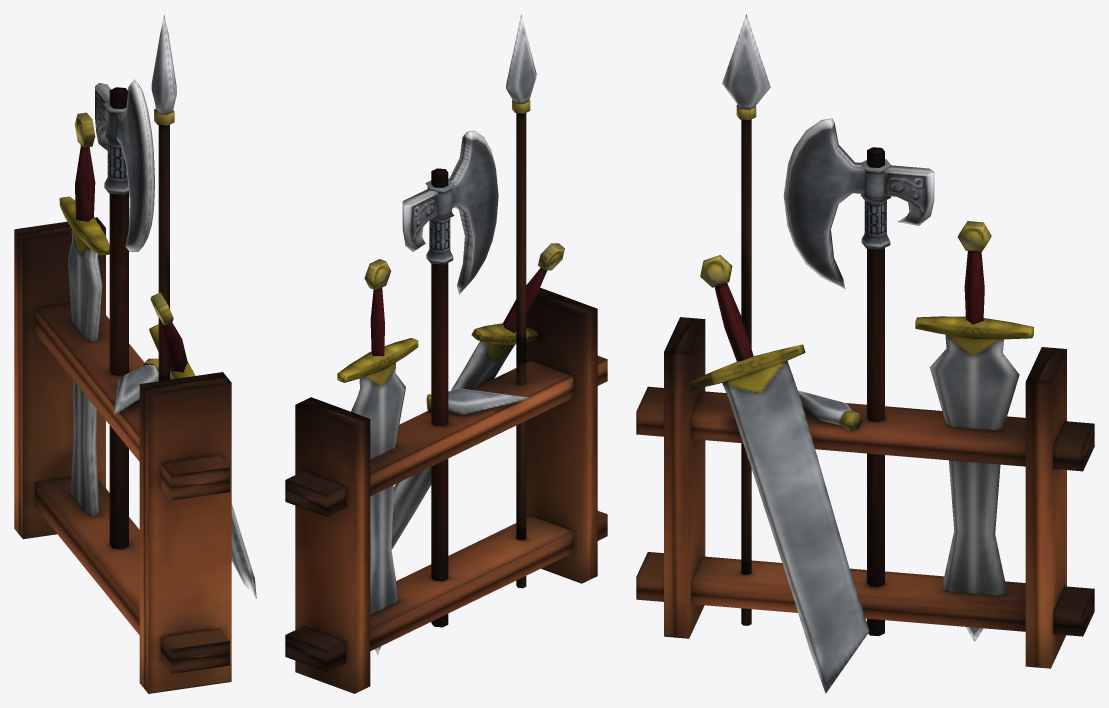
Rendered from weapons rack 2.fbx.
3 renders of one model, left to right at view 1: azimuth 30°, elevation 25°; view 2: azimuth 150°, elevation 25°; view 3: azimuth 270°, elevation 25°, orthographic. The views are drawn at different scales.
Visible parts, largest first — view 1: Weapons_rack2; view 2: Weapons_rack2; view 3: Weapons_rack2.
Boxes of the visible parts, x1,y1,x2,y2 form: Weapons_rack2: [14, 15, 256, 693]; Weapons_rack2: [285, 14, 607, 693]; Weapons_rack2: [636, 14, 1094, 693].
Bounding box in the file's own units: 0.7722 × 2.59 × 1.74.
